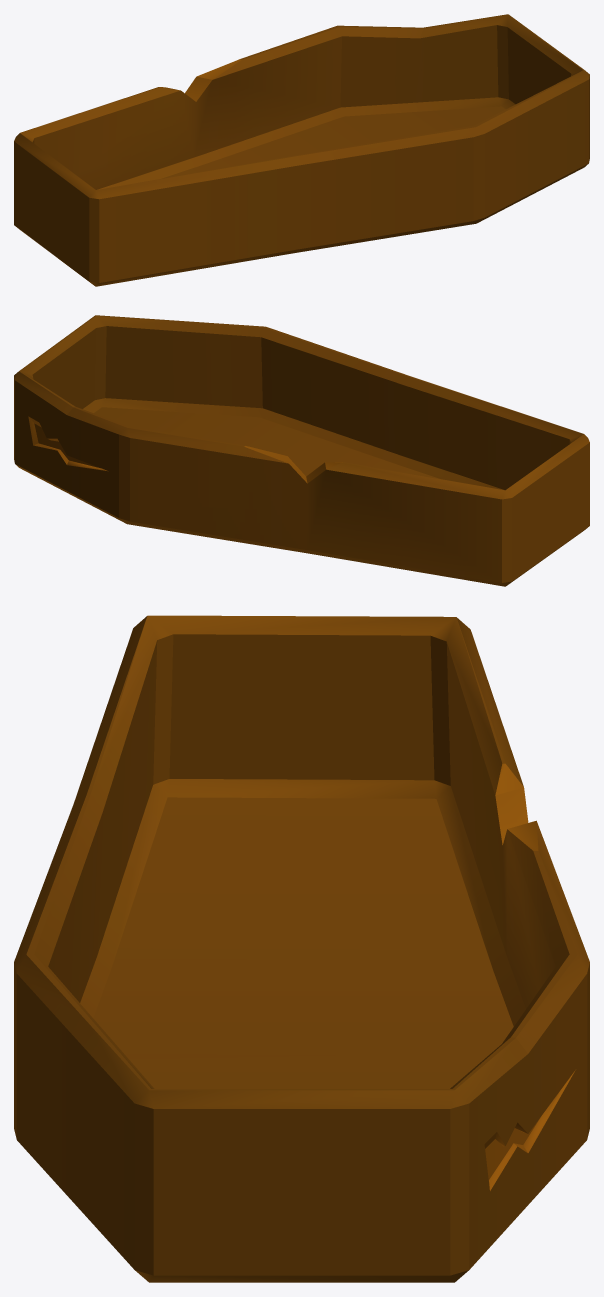
File: Cofin_1_3.glb
3 views of the same model, one above another, from view 1: azimuth 30°, elevation 25°; view 2: azimuth 150°, elevation 25°; view 3: azimuth 270°, elevation 25° (orthographic). The views are drawn at different scales.
Parts seen in each view (by area): view 1: Cofin_1_3; view 2: Cofin_1_3; view 3: Cofin_1_3.
Boxes of the visible parts, box(x1,y1,x2,y2) form: Cofin_1_3: box(14, 14, 589, 286); Cofin_1_3: box(14, 315, 589, 586); Cofin_1_3: box(14, 615, 589, 1282).
Size of the model in its own units: 1.32 by 0.2435 by 0.6612.
1 material, 1 textured.
